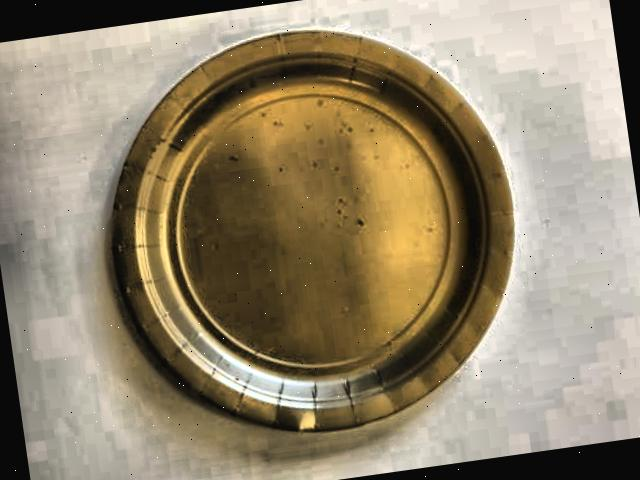Paper: (66, 0, 557, 472)
